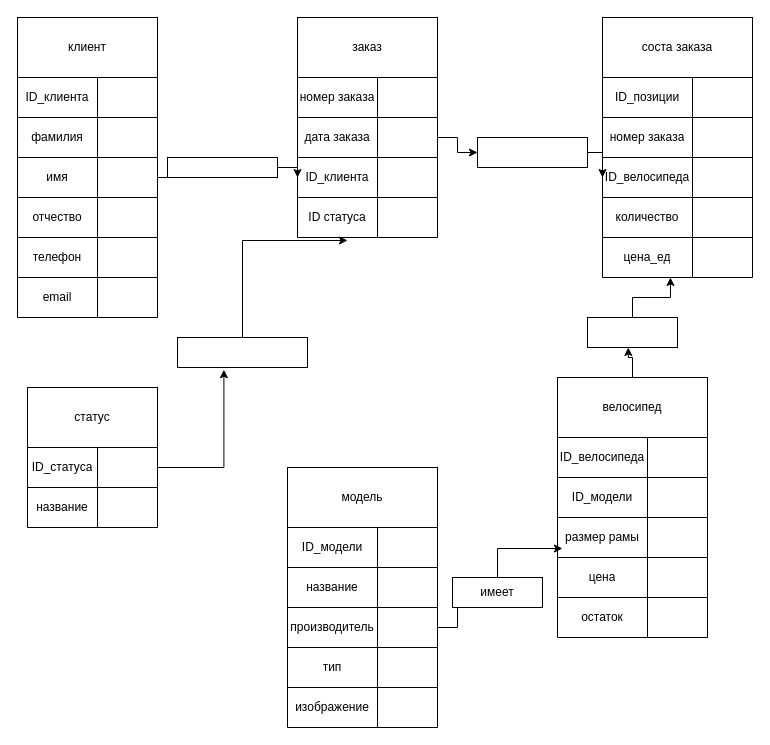
This 770x745 diagram has some shape labels left out. Each missing label, with the centre of its shape:
"входит в" belongs at point (632, 332).
"определяет" belongs at point (242, 352).
"офорляет" belongs at point (222, 167).
"содержит" belongs at point (532, 152).
